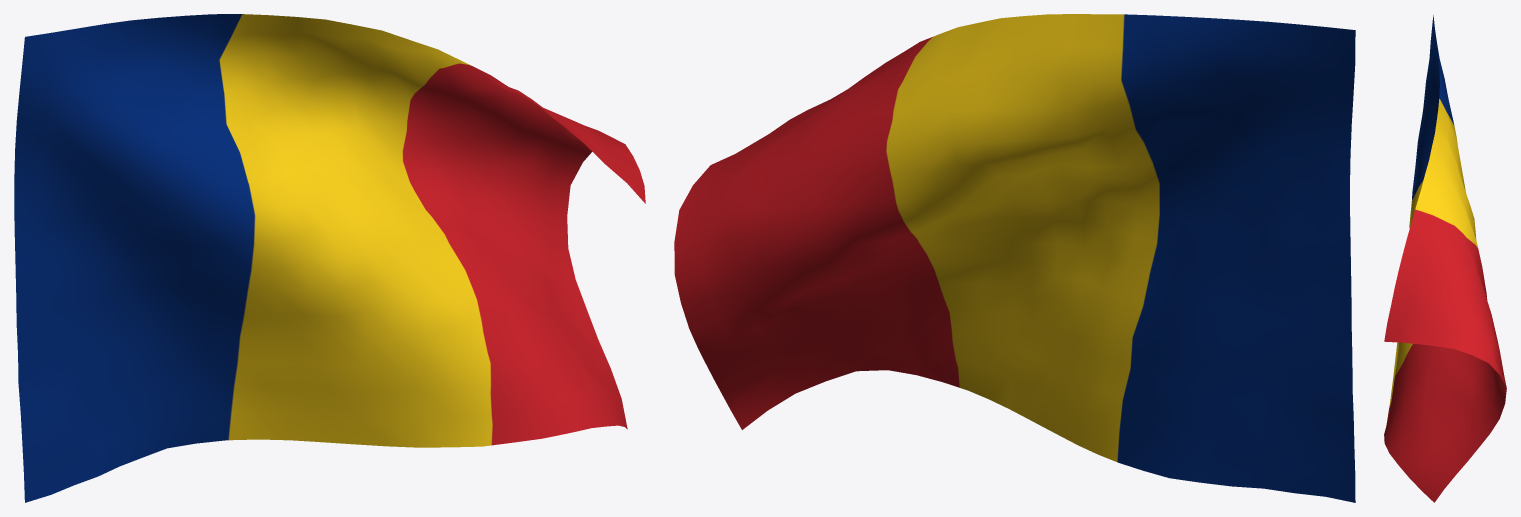
The model's file is flag.glb.
3 renders of one model, left to right at view 1: azimuth 30°, elevation 25°; view 2: azimuth 150°, elevation 25°; view 3: azimuth 270°, elevation 25°, orthographic. The views are drawn at different scales.
Parts seen in each view (by area): view 1: Flag ShapeKeys_2_4_7; view 2: Flag ShapeKeys_2_4_7; view 3: Flag ShapeKeys_2_4_7.
Boxes of the visible parts, box(x1,y1,x2,y2) form: Flag ShapeKeys_2_4_7: box(14, 14, 645, 502); Flag ShapeKeys_2_4_7: box(674, 14, 1355, 502); Flag ShapeKeys_2_4_7: box(1384, 15, 1506, 502).
Size of the model in its own units: 2.8 by 2.32 by 0.8164.
Materials: 1 (1 with a texture image).
